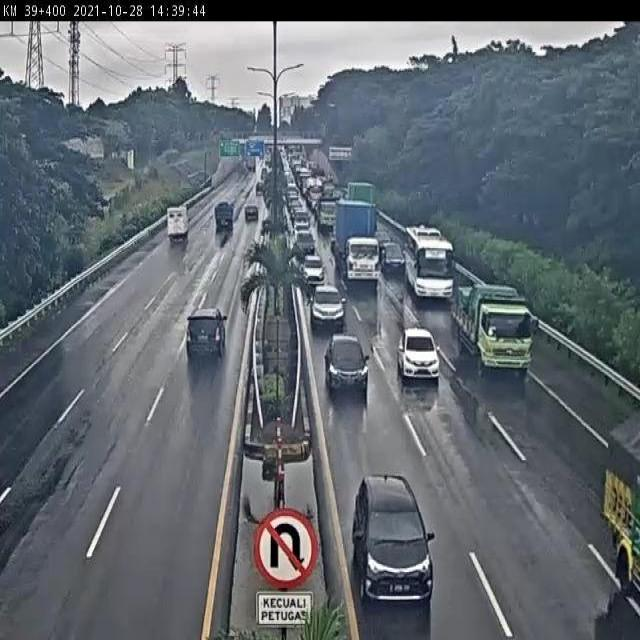big bus: (402, 223, 453, 297)
big truck: (336, 198, 381, 282)
car: (353, 476, 434, 603), (323, 335, 370, 393), (398, 327, 443, 381), (185, 308, 228, 356), (308, 284, 345, 325), (381, 237, 406, 272), (301, 249, 324, 283), (241, 201, 261, 224)
mid truck: (450, 279, 532, 373)
small truck: (164, 205, 193, 247), (211, 198, 236, 230)
